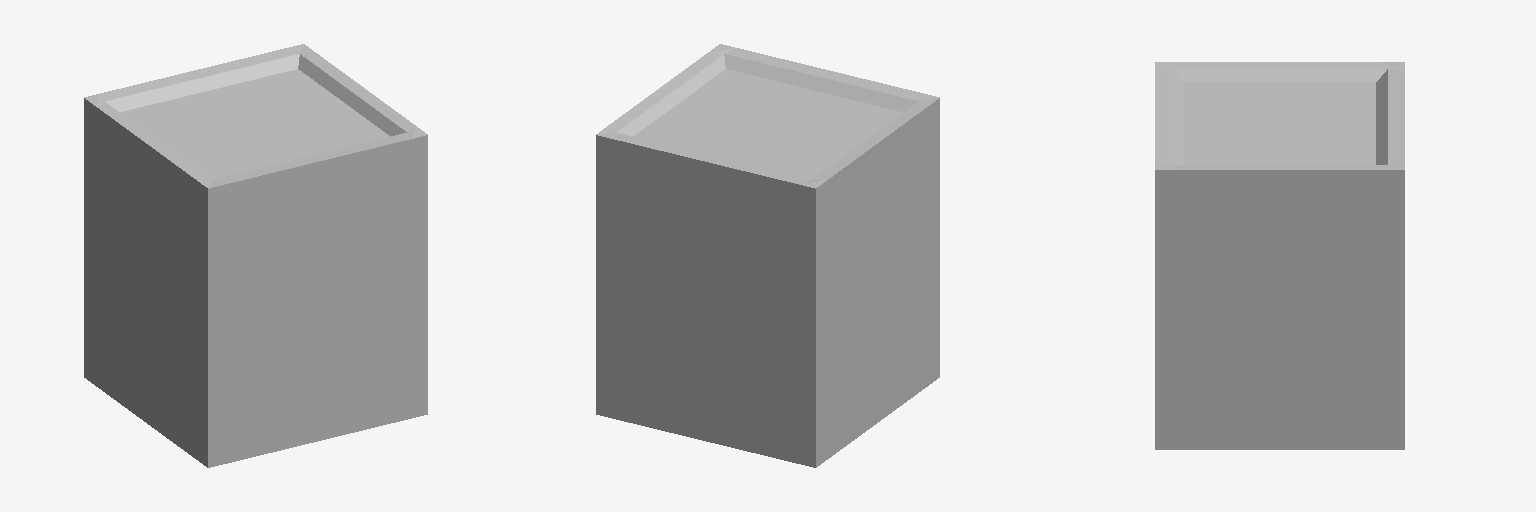
Rendered from building_1.obj.
3 views of the same model, side by side, from view 1: azimuth 30°, elevation 25°; view 2: azimuth 150°, elevation 25°; view 3: azimuth 270°, elevation 25° (orthographic).
Visible parts, largest first — view 1: Building_1_Cube; view 2: Building_1_Cube; view 3: Building_1_Cube.
Boxes of the visible parts, <box> form: Building_1_Cube: <box>84,44,427,467</box>; Building_1_Cube: <box>596,44,939,467</box>; Building_1_Cube: <box>1155,62,1404,449</box>.
Bounding box in the file's own units: 9.46 × 11.47 × 9.26.